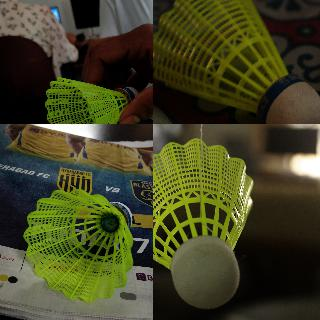shuttlecock: (153, 0, 319, 123), (153, 138, 253, 309), (23, 190, 133, 302), (44, 77, 138, 123)
